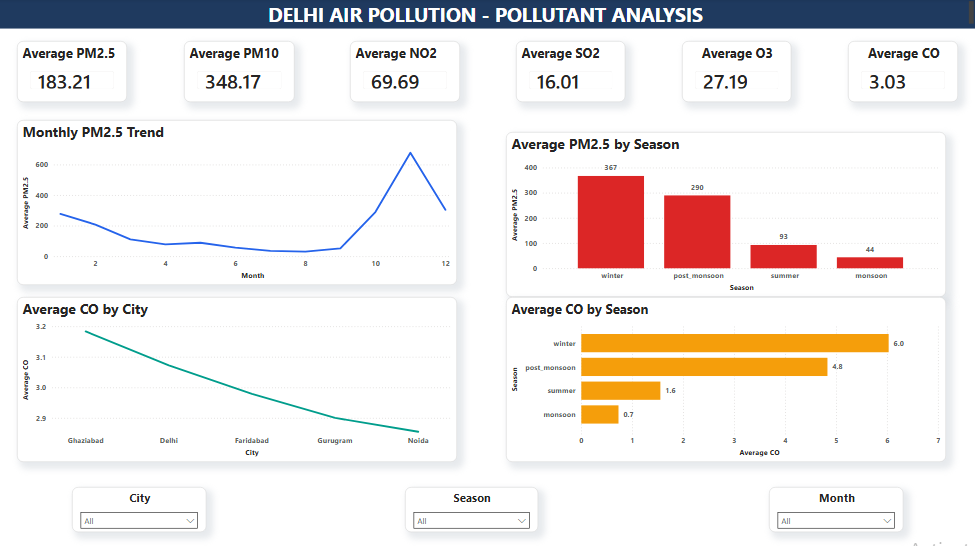

What the dashboard file says about the page in this screenshot:
{"tool":"powerbi","page":{"name":"Page 2","canvas":[1600,900],"ordinal":1},"visuals":[{"type":"textbox","box":[0,0,1600,50],"z":0},{"type":"cardVisual","title":"Average PM2.5","fields":{"Data":["Avg(delhi_air_pollution_cleaned.pm25)"]},"box":[30,70.5,180,100.2],"z":1},{"type":"cardVisual","title":"Average PM10","fields":{"Data":["Avg(delhi_air_pollution_cleaned.pm10)"]},"box":[302,70,181.1,100.4],"z":2},{"type":"cardVisual","title":"Average NO2","fields":{"Data":["Avg(delhi_air_pollution_cleaned.no2)"]},"box":[574,70,180,100],"z":3},{"type":"cardVisual","title":"Average SO2","fields":{"Data":["Avg(delhi_air_pollution_cleaned.so2)"]},"box":[846,70,179.3,100.4],"z":4},{"type":"cardVisual","title":"Average O3","fields":{"Data":["Avg(delhi_air_pollution_cleaned.o3)"]},"box":[1118,70,179.3,100.4],"z":5},{"type":"cardVisual","title":"Average CO","fields":{"Data":["Avg(delhi_air_pollution_cleaned.co)"]},"box":[1390,70,180.5,100.5],"z":6},{"type":"lineChart","title":"Monthly PM2.5 Trend","fields":{"Category":["delhi_air_pollution_cleaned.month"],"Y":["Avg(delhi_air_pollution_cleaned.pm25)"]},"box":[30,200,720,270],"z":7},{"type":"lineChart","title":"Average CO by City","fields":{"Category":["delhi_air_pollution_cleaned.city"],"Y":["Avg(delhi_air_pollution_cleaned.co)"]},"box":[30,490,720,270],"z":9},{"type":"slicer","title":"Season","fields":{"Values":["delhi_air_pollution_cleaned.season"]},"box":[663.8,800,218,74.3],"z":14},{"type":"slicer","title":"Month","fields":{"Values":["delhi_air_pollution_cleaned.month"]},"box":[1260.7,800,220.4,74.3],"z":15},{"type":"clusteredColumnChart","fields":{"Y":["Avg(delhi_air_pollution_cleaned.pm25)"],"Category":["delhi_air_pollution_cleaned.season"]},"box":[830,220,720,270],"z":18},{"type":"clusteredBarChart","fields":{"Category":["delhi_air_pollution_cleaned.season"],"Y":["Avg(delhi_air_pollution_cleaned.co)"]},"box":[830,490,720,270],"z":19},{"type":"slicer","title":"City","fields":{"Values":["delhi_air_pollution_cleaned.city"]},"box":[118.9,800,220.4,74.3],"z":20}]}

Visuals, with their boxes in screenshot pixels (x1, y1, x2, y2), scaled from the page's 1600x900 canvas onto the 975x546 screenshot:
textbox: locate(0, 0, 974, 30)
"Average PM2.5" cardVisual: locate(18, 43, 128, 104)
"Average PM10" cardVisual: locate(184, 42, 294, 103)
"Average NO2" cardVisual: locate(350, 42, 459, 103)
"Average SO2" cardVisual: locate(516, 42, 625, 103)
"Average O3" cardVisual: locate(681, 42, 791, 103)
"Average CO" cardVisual: locate(847, 42, 957, 103)
"Monthly PM2.5 Trend" lineChart: locate(18, 121, 457, 285)
"Average CO by City" lineChart: locate(18, 297, 457, 461)
"Season" slicer: locate(405, 485, 537, 530)
"Month" slicer: locate(768, 485, 903, 530)
clusteredColumnChart - Avg(delhi_air_pollution_cleaned.pm25) x delhi_air_pollution_cleaned.season: locate(506, 133, 945, 297)
clusteredBarChart - delhi_air_pollution_cleaned.season x Avg(delhi_air_pollution_cleaned.co): locate(506, 297, 945, 461)
"City" slicer: locate(72, 485, 207, 530)
